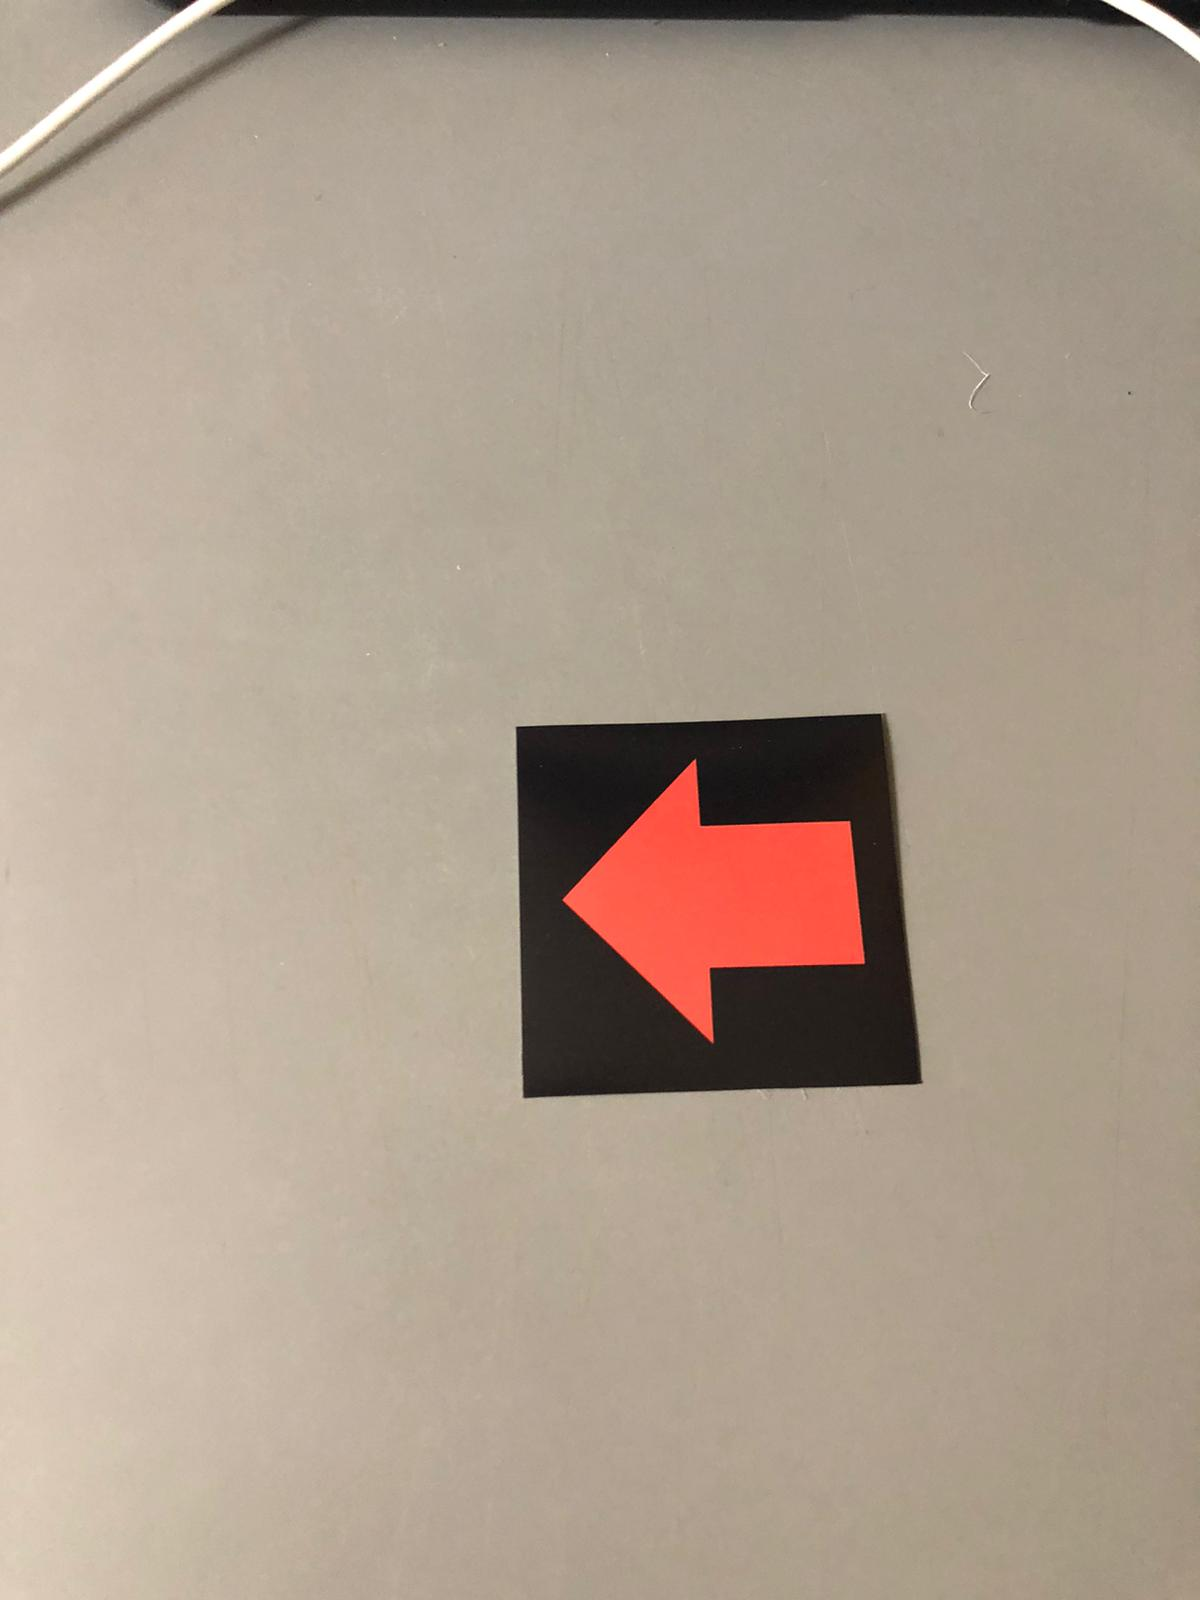Left Arrow: (517, 740, 900, 1060)
